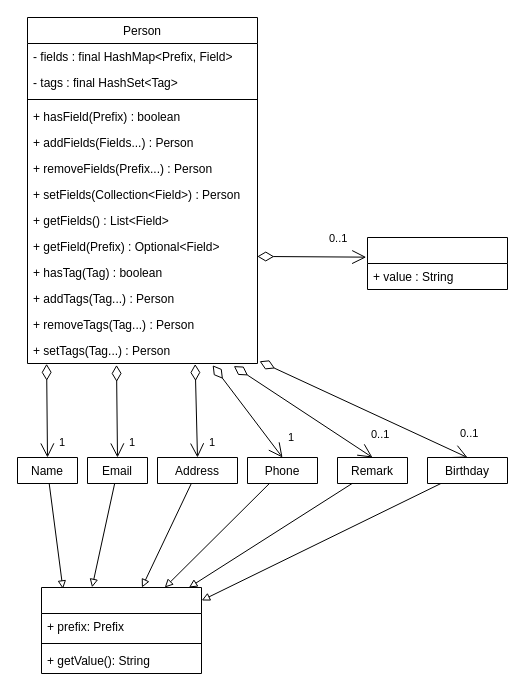
Some shapes in this 525 by 694 pixel diagram are drawn without their labels. The shapes that lost their labels are listed below. From the top down, each one's box as (x1, y1, x2, y2) in pixels, then its label:
(366, 236, 508, 290): Tag
(40, 586, 202, 674): Field
